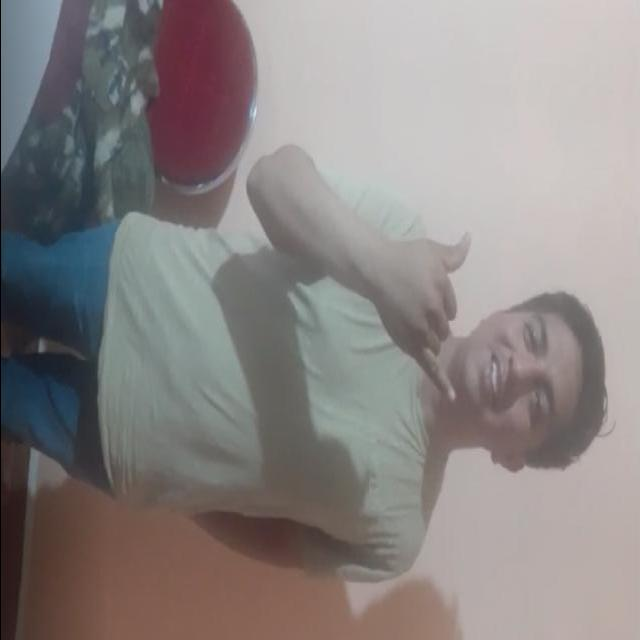Y: (382, 202, 490, 428)
